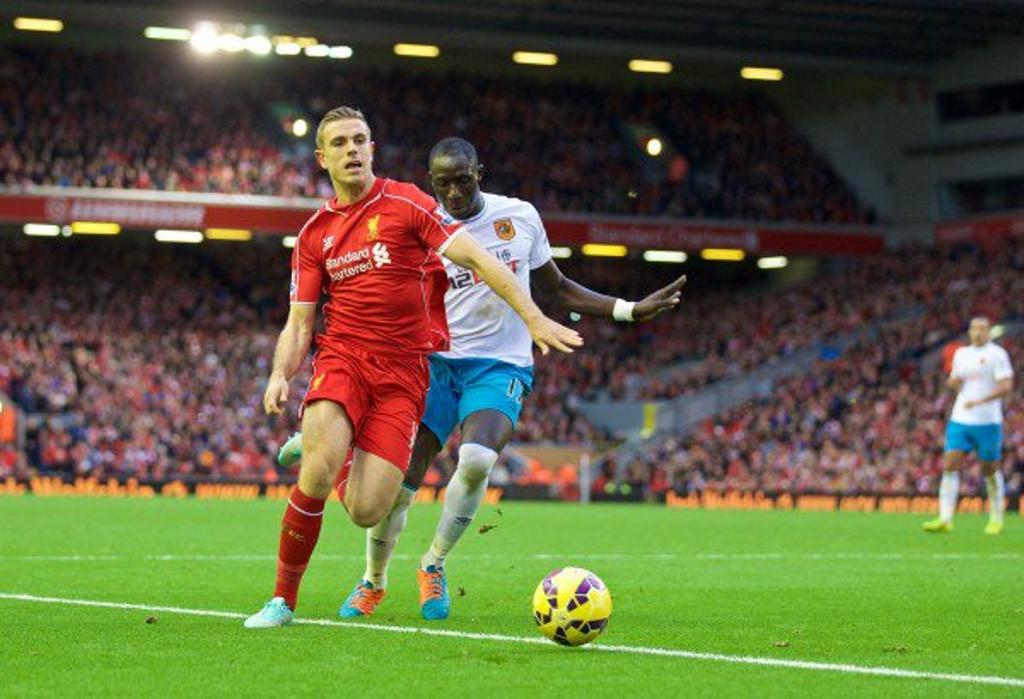face: (325, 123, 371, 184), (431, 159, 477, 217), (969, 321, 986, 345)
